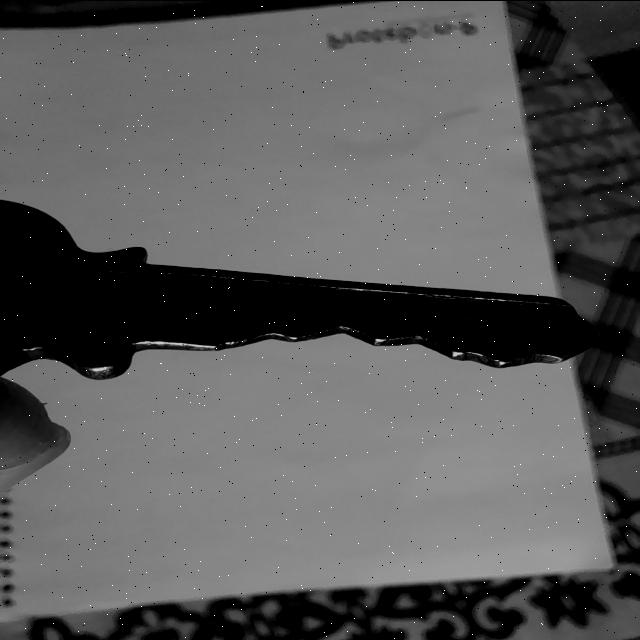key: (0, 200, 598, 379)
